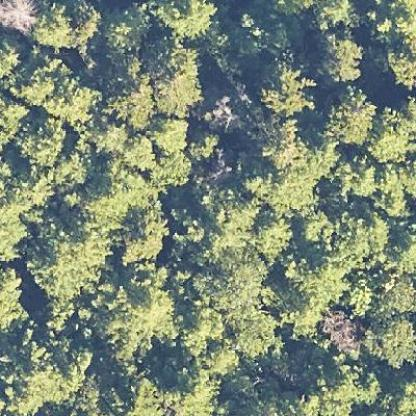tree-top: (22, 214, 111, 295), (0, 330, 95, 404), (107, 280, 183, 347), (147, 40, 205, 114), (322, 85, 382, 153), (28, 0, 105, 51), (257, 64, 321, 116), (311, 31, 365, 88), (361, 310, 415, 367), (370, 99, 413, 167), (18, 112, 70, 164), (229, 306, 280, 359), (149, 0, 220, 38), (250, 208, 300, 258), (369, 268, 415, 318), (146, 112, 194, 158), (319, 308, 361, 354), (91, 118, 133, 157)
